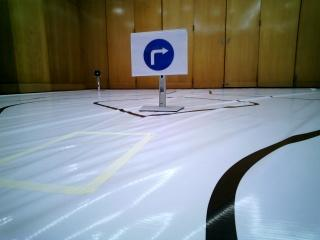right: (133, 32, 188, 75)
